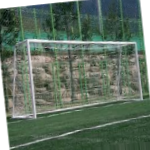goals: (11, 38, 145, 120)
